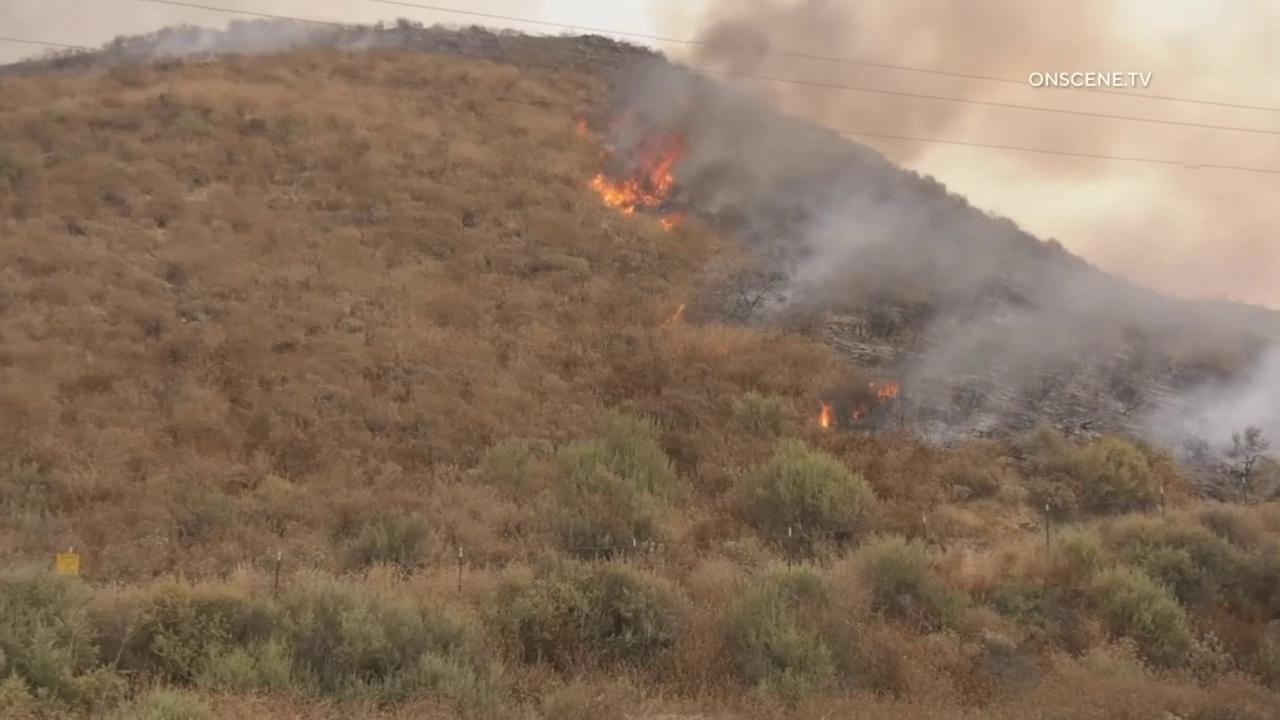fire: (589, 134, 683, 232), (877, 384, 898, 401), (819, 403, 832, 428), (673, 304, 685, 322), (577, 119, 587, 135), (851, 409, 863, 419), (869, 381, 876, 388)
smoke: (606, 0, 1280, 472), (0, 0, 408, 66)
